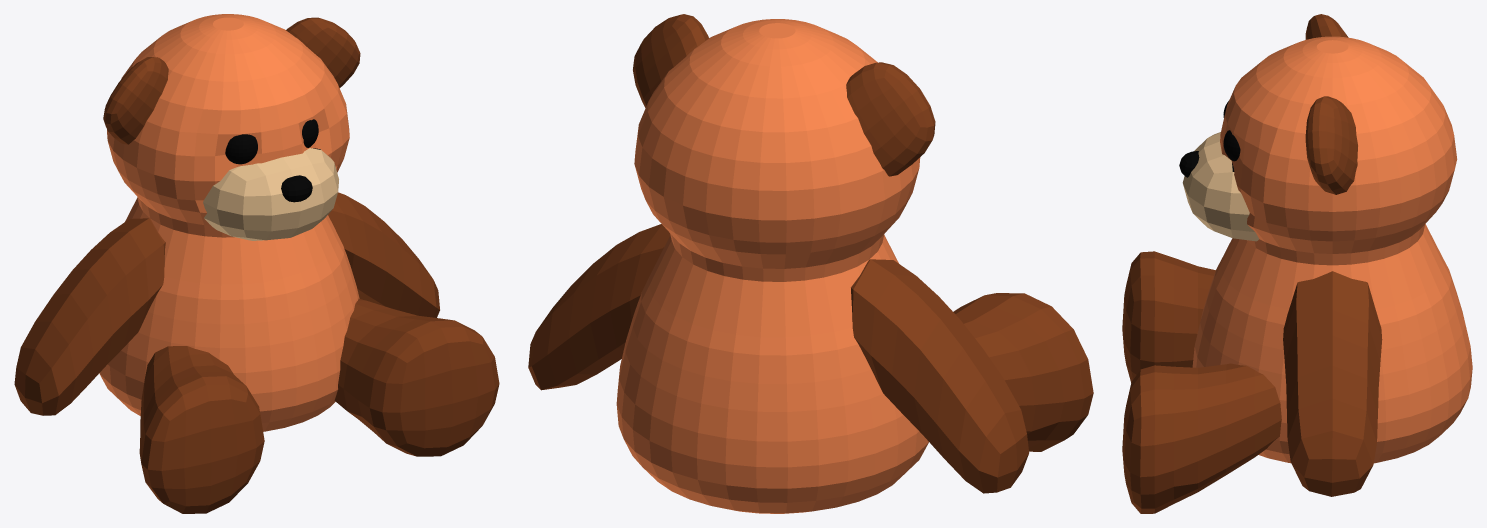
Rendered from Teddy_bear.fbx.
3 views of the same model, side by side, from view 1: azimuth 30°, elevation 25°; view 2: azimuth 150°, elevation 25°; view 3: azimuth 270°, elevation 25° (orthographic). The views are drawn at different scales.
Visible parts, largest first — view 1: Cube; view 2: Cube; view 3: Cube.
Part boxes in pixels (<box>): Cube: <box>14,14,499,513</box>; Cube: <box>528,14,1093,513</box>; Cube: <box>1122,14,1472,513</box>.
Size of the model in its own units: 423 by 393 by 310.
